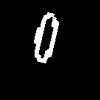chain: (34, 13, 58, 62)
